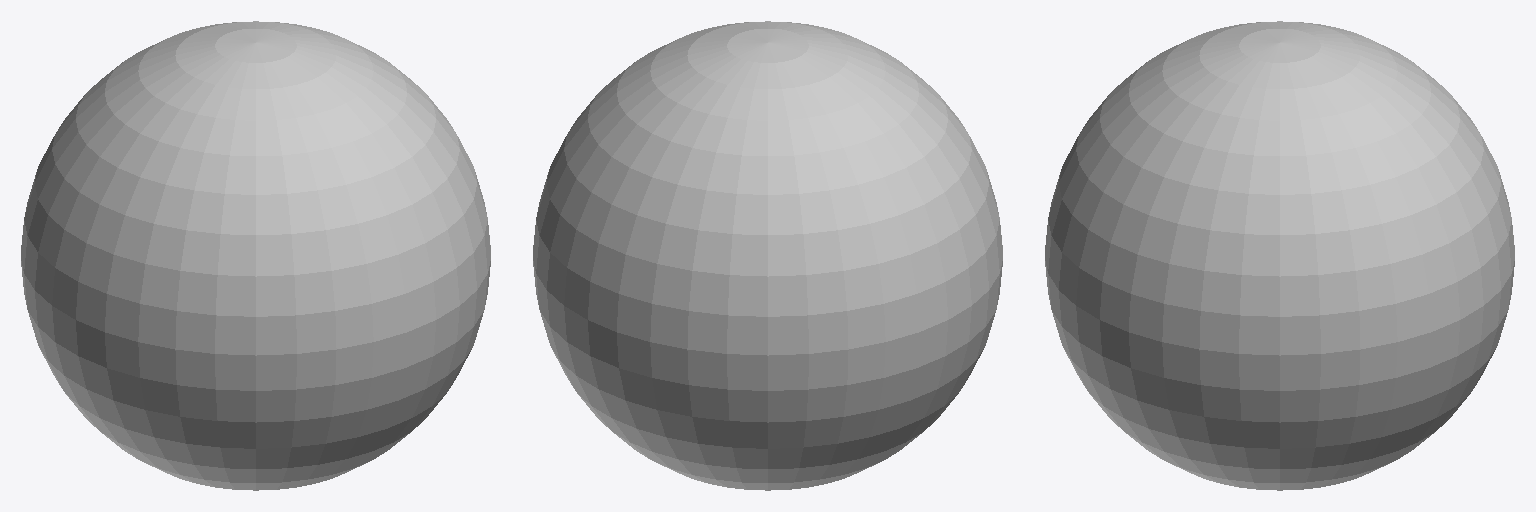
File: minineptune.obj
The picture shows the model from 3 angles: view 1: azimuth 30°, elevation 25°; view 2: azimuth 150°, elevation 25°; view 3: azimuth 270°, elevation 25°; orthographic projection.
Parts seen in each view (by area): view 1: Sphere.010; view 2: Sphere.010; view 3: Sphere.010.
Part boxes in pixels (x1,y1,x2,y2): Sphere.010: (21, 21, 490, 490); Sphere.010: (533, 21, 1002, 490); Sphere.010: (1045, 21, 1514, 490).
Size of the model in its own units: 14774 by 14774 by 14774.